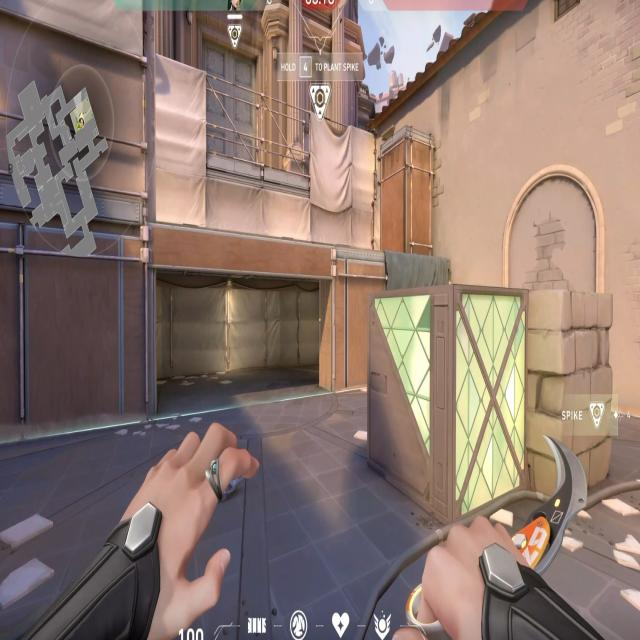A_Heaven_Box: (366, 113, 438, 269)
A_Hell: (126, 206, 341, 412)
A_Site_Box: (361, 280, 623, 516)
